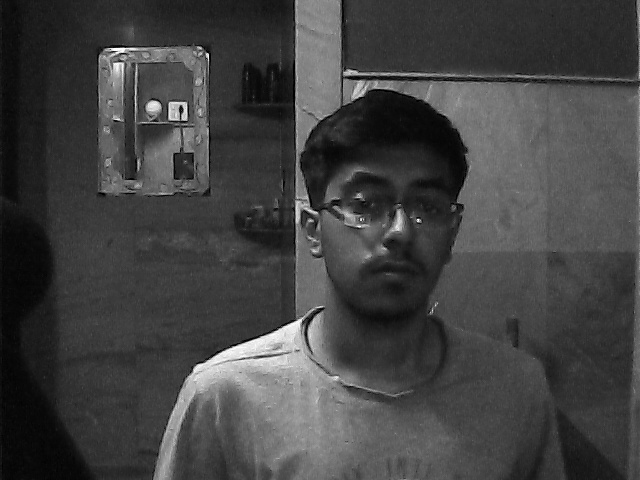nomask: (314, 135, 456, 323)
